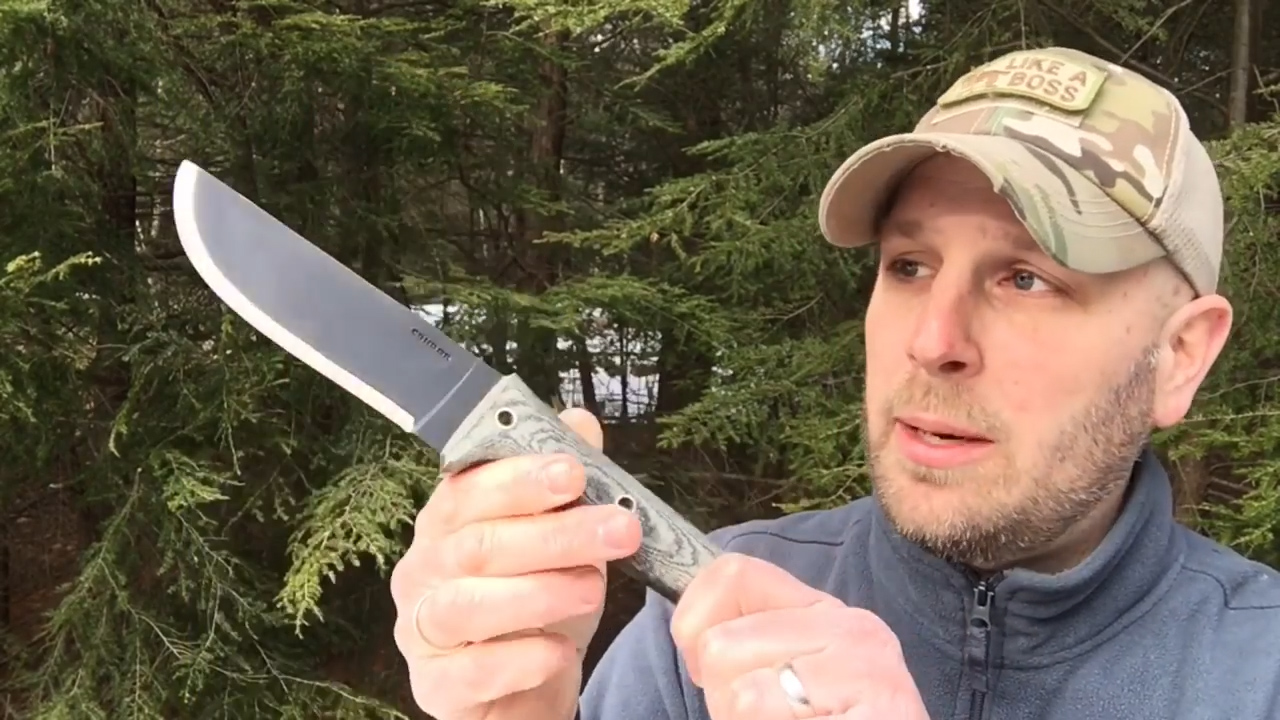knife: (162, 147, 607, 518)
